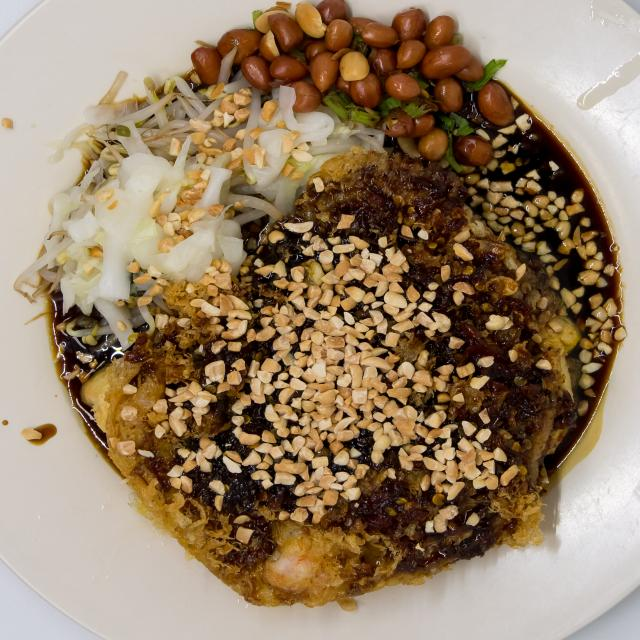Tahu-Telur: (64, 0, 596, 590)
